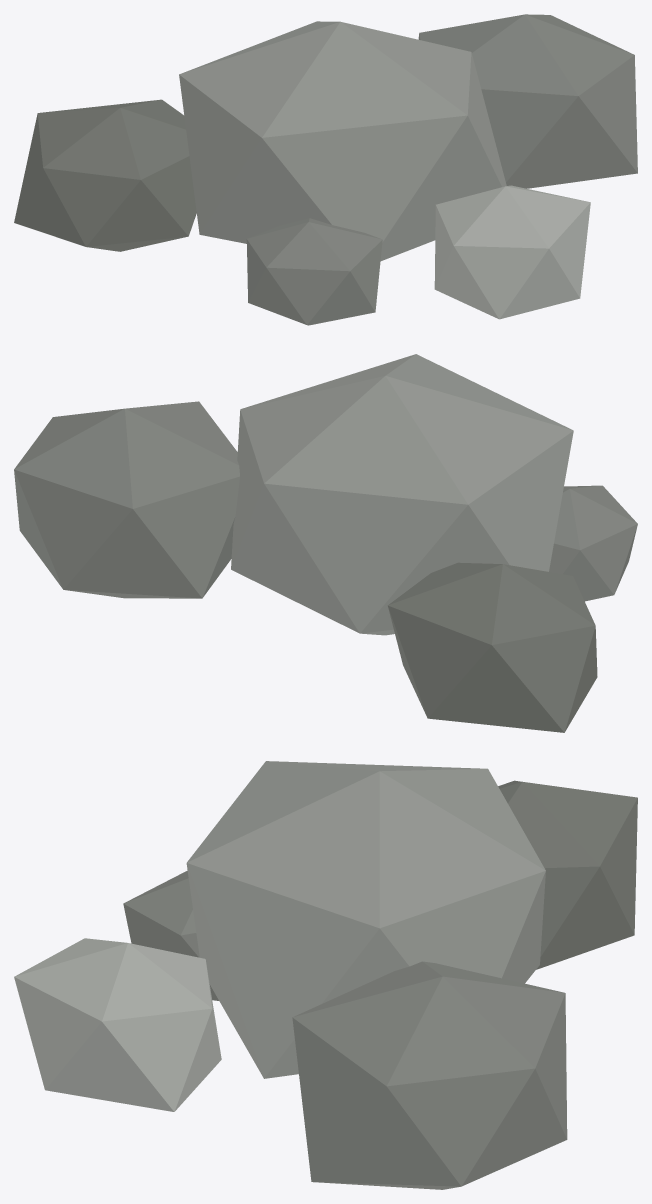
Rendered from rockCluster.glb.
3 views of the same model, one above another, from view 1: azimuth 30°, elevation 25°; view 2: azimuth 150°, elevation 25°; view 3: azimuth 270°, elevation 25° (orthographic). The views are drawn at different scales.
Parts seen in each view (by area): view 1: RockCluster; view 2: RockCluster; view 3: RockCluster.
Boxes of the visible parts, x1,y1,x2,y2 form: RockCluster: (14, 14, 637, 325); RockCluster: (14, 354, 637, 732); RockCluster: (14, 761, 637, 1189).
Size of the model in its own units: 1.86 by 0.7681 by 1.49.
1 material, 1 textured.
